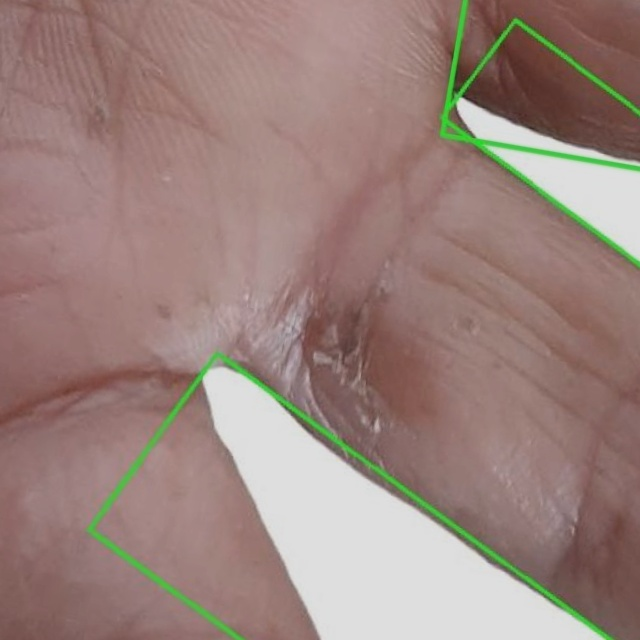Scabies: (90, 353, 612, 639), (442, 20, 639, 265)
